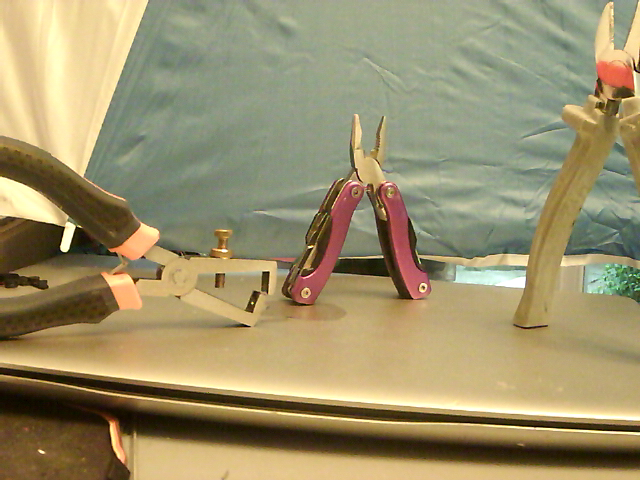pliers: (507, 1, 640, 332), (278, 116, 436, 309)
